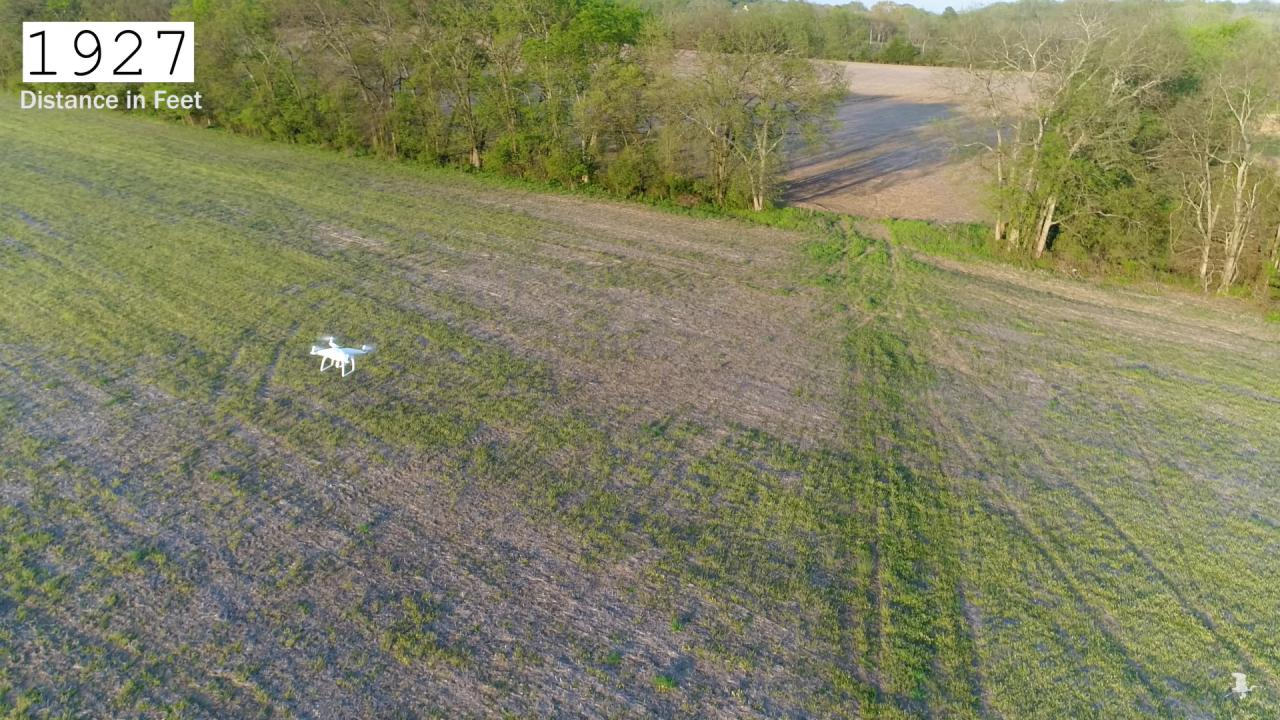Drone: (298, 321, 382, 390)
